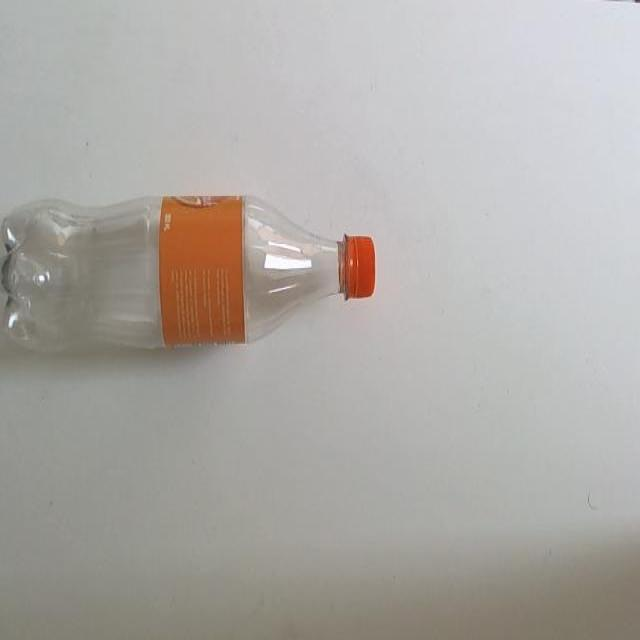non-defect: (2, 192, 377, 356)
